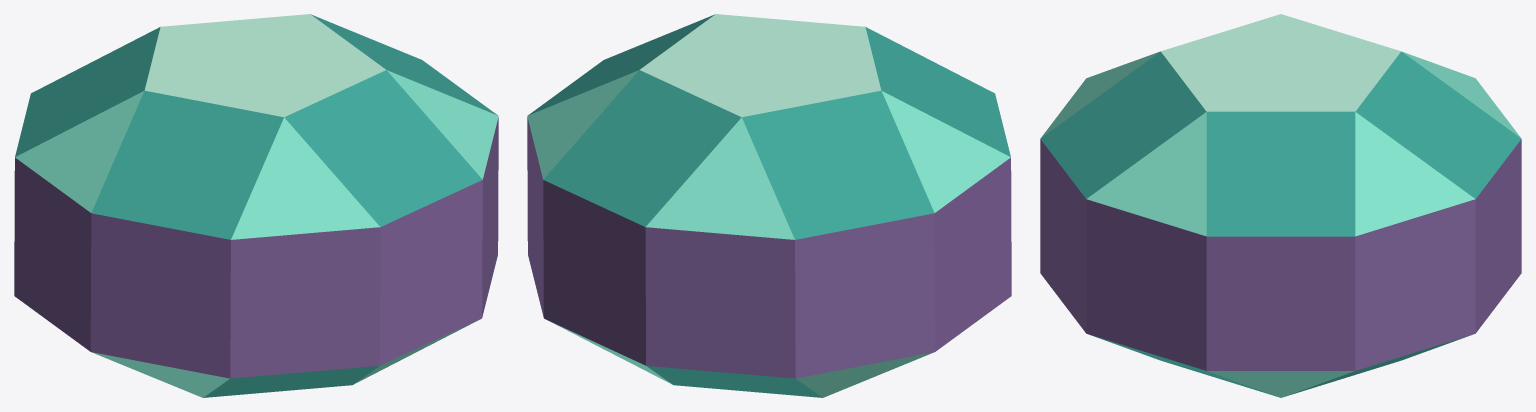
The model's file is J39.GirobicupulaPentagonalElongada.gltf.
3 views of the same model, side by side, from view 1: azimuth 30°, elevation 25°; view 2: azimuth 150°, elevation 25°; view 3: azimuth 270°, elevation 25° (orthographic). The views are drawn at different scales.
Visible parts, largest first — view 1: J39.GirobicupulaPentagonalElongada; view 2: J39.GirobicupulaPentagonalElongada; view 3: J39.GirobicupulaPentagonalElongada.
Part boxes in pixels (bbox=[...]): J39.GirobicupulaPentagonalElongada: bbox=[14, 14, 498, 397]; J39.GirobicupulaPentagonalElongada: bbox=[527, 14, 1011, 397]; J39.GirobicupulaPentagonalElongada: bbox=[1040, 14, 1521, 397].
Bounding box in the file's own units: 18.2 × 12.16 × 19.11.
